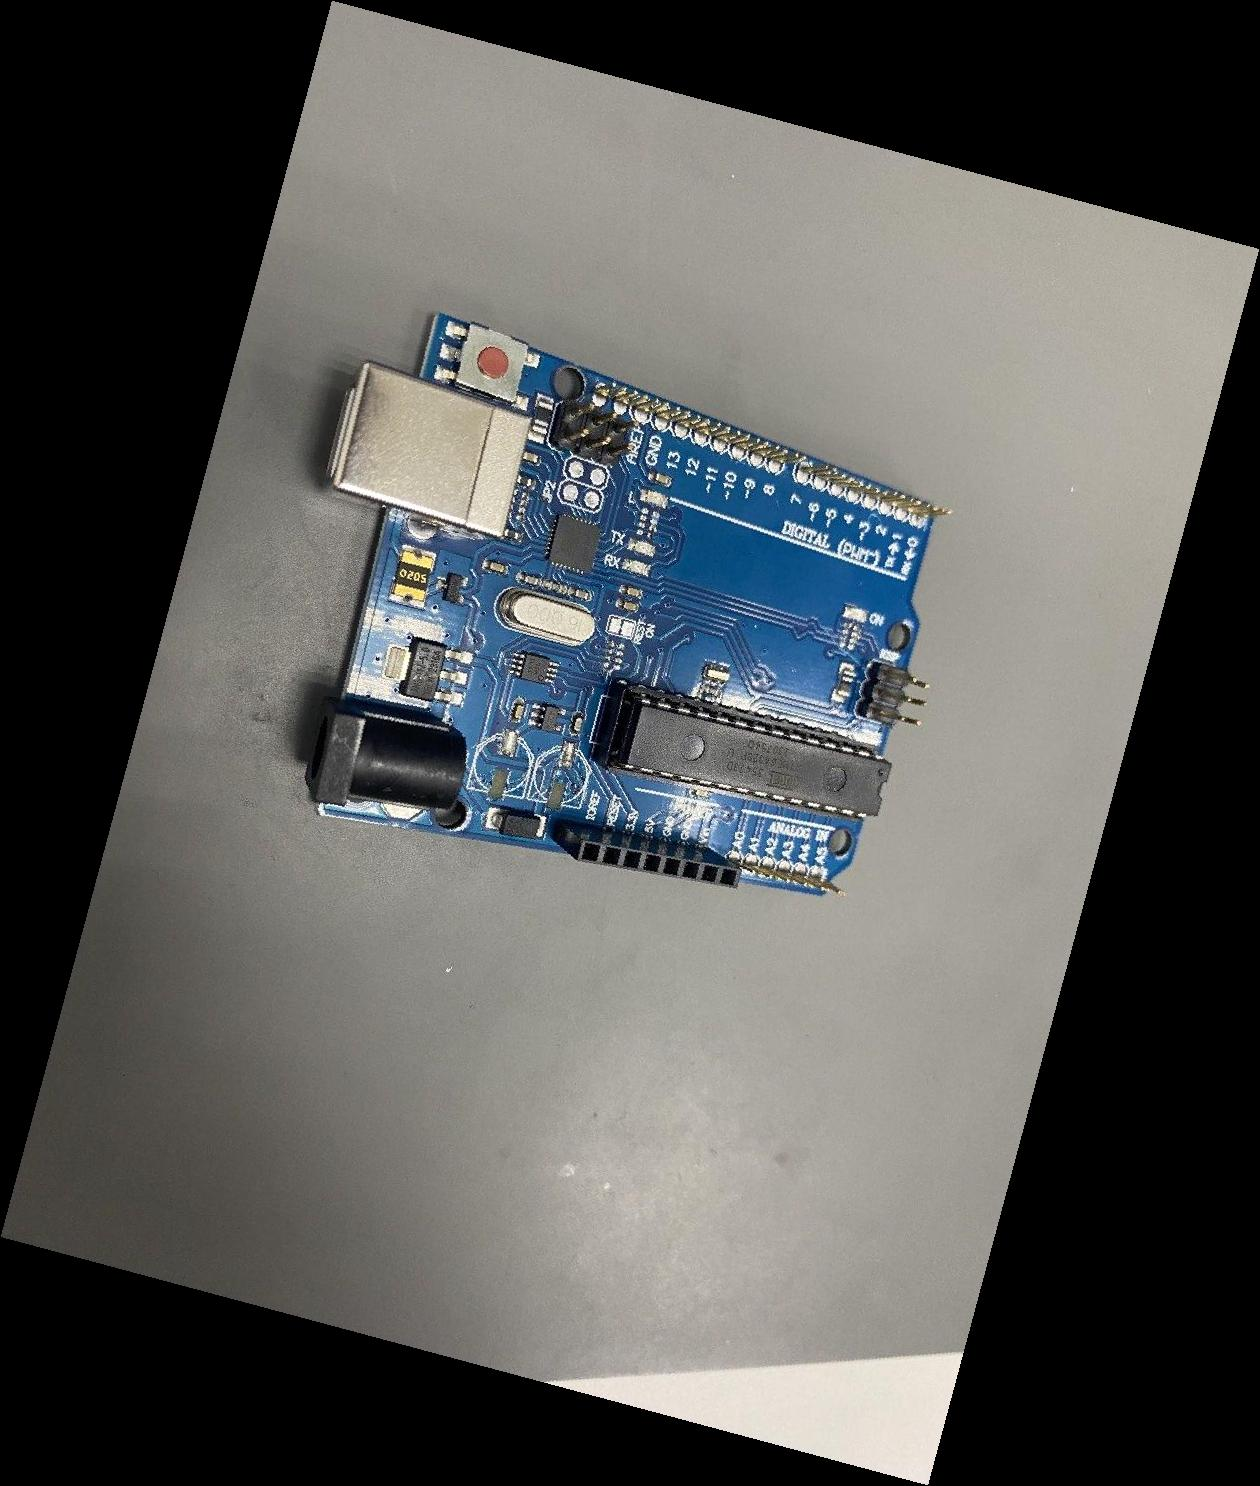ATmega328 chip: (594, 680, 892, 825)
Arduino board: (303, 312, 951, 898)
USB: (321, 360, 534, 541)
pins: (551, 819, 742, 890)
